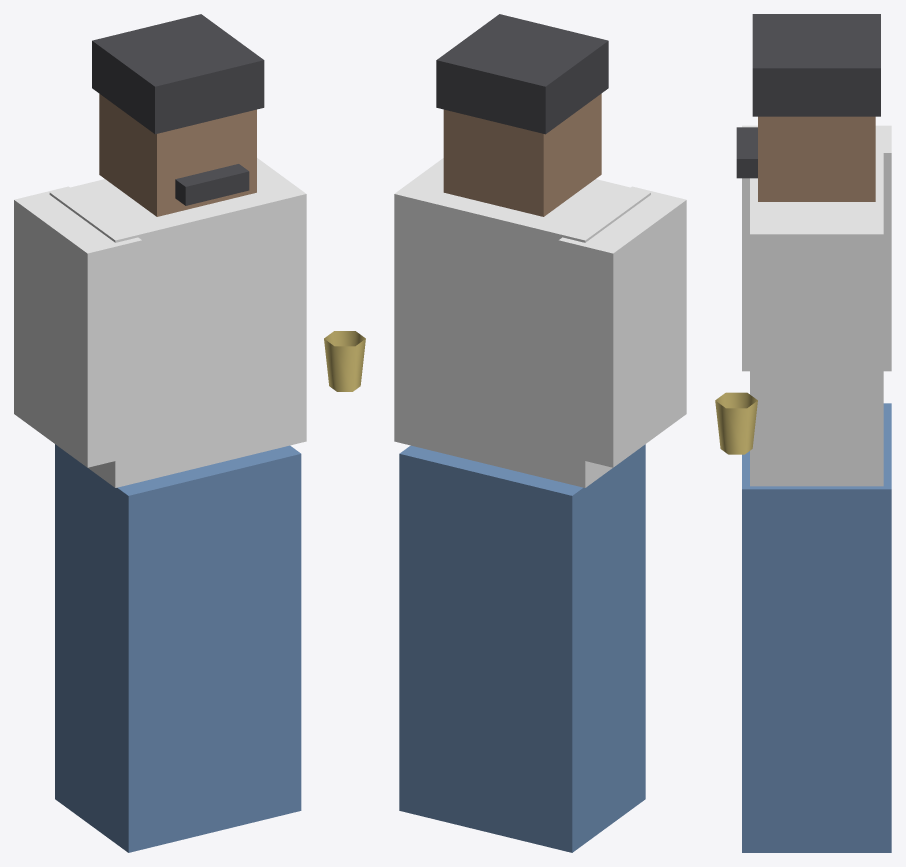
The model's file is murugan.glb.
3 renders of one model, left to right at view 1: azimuth 30°, elevation 25°; view 2: azimuth 150°, elevation 25°; view 3: azimuth 270°, elevation 25°, orthographic.
Parts seen in each view (by area): view 1: Lungi_Node, Torso_Node, Thundu_Node, Hair_Node, Head_Node, TeaGlass_Node, Moustache_Node; view 2: Lungi_Node, Torso_Node, Thundu_Node, Hair_Node, Head_Node; view 3: Lungi_Node, Torso_Node, Hair_Node, Head_Node, Thundu_Node, TeaGlass_Node, Moustache_Node.
Boxes of the visible parts, box(x1,y1,x2,y2) form: Lungi_Node: box(55, 444, 301, 852); Torso_Node: box(49, 158, 306, 487); Thundu_Node: box(14, 186, 141, 467); Hair_Node: box(92, 14, 264, 134); Head_Node: box(99, 94, 256, 216); TeaGlass_Node: box(324, 331, 365, 391); Moustache_Node: box(175, 164, 249, 205); Lungi_Node: box(399, 444, 645, 852); Torso_Node: box(394, 158, 650, 487); Thundu_Node: box(558, 186, 686, 467); Hair_Node: box(436, 14, 608, 134); Head_Node: box(443, 93, 601, 216); Lungi_Node: box(742, 403, 891, 852); Torso_Node: box(750, 139, 883, 486); Hair_Node: box(752, 14, 880, 116); Head_Node: box(758, 116, 875, 201); Thundu_Node: box(742, 125, 891, 371); TeaGlass_Node: box(715, 392, 757, 454); Moustache_Node: box(736, 127, 757, 178).
Size of the model in its own units: 0.5946 by 1.58 by 0.33.
